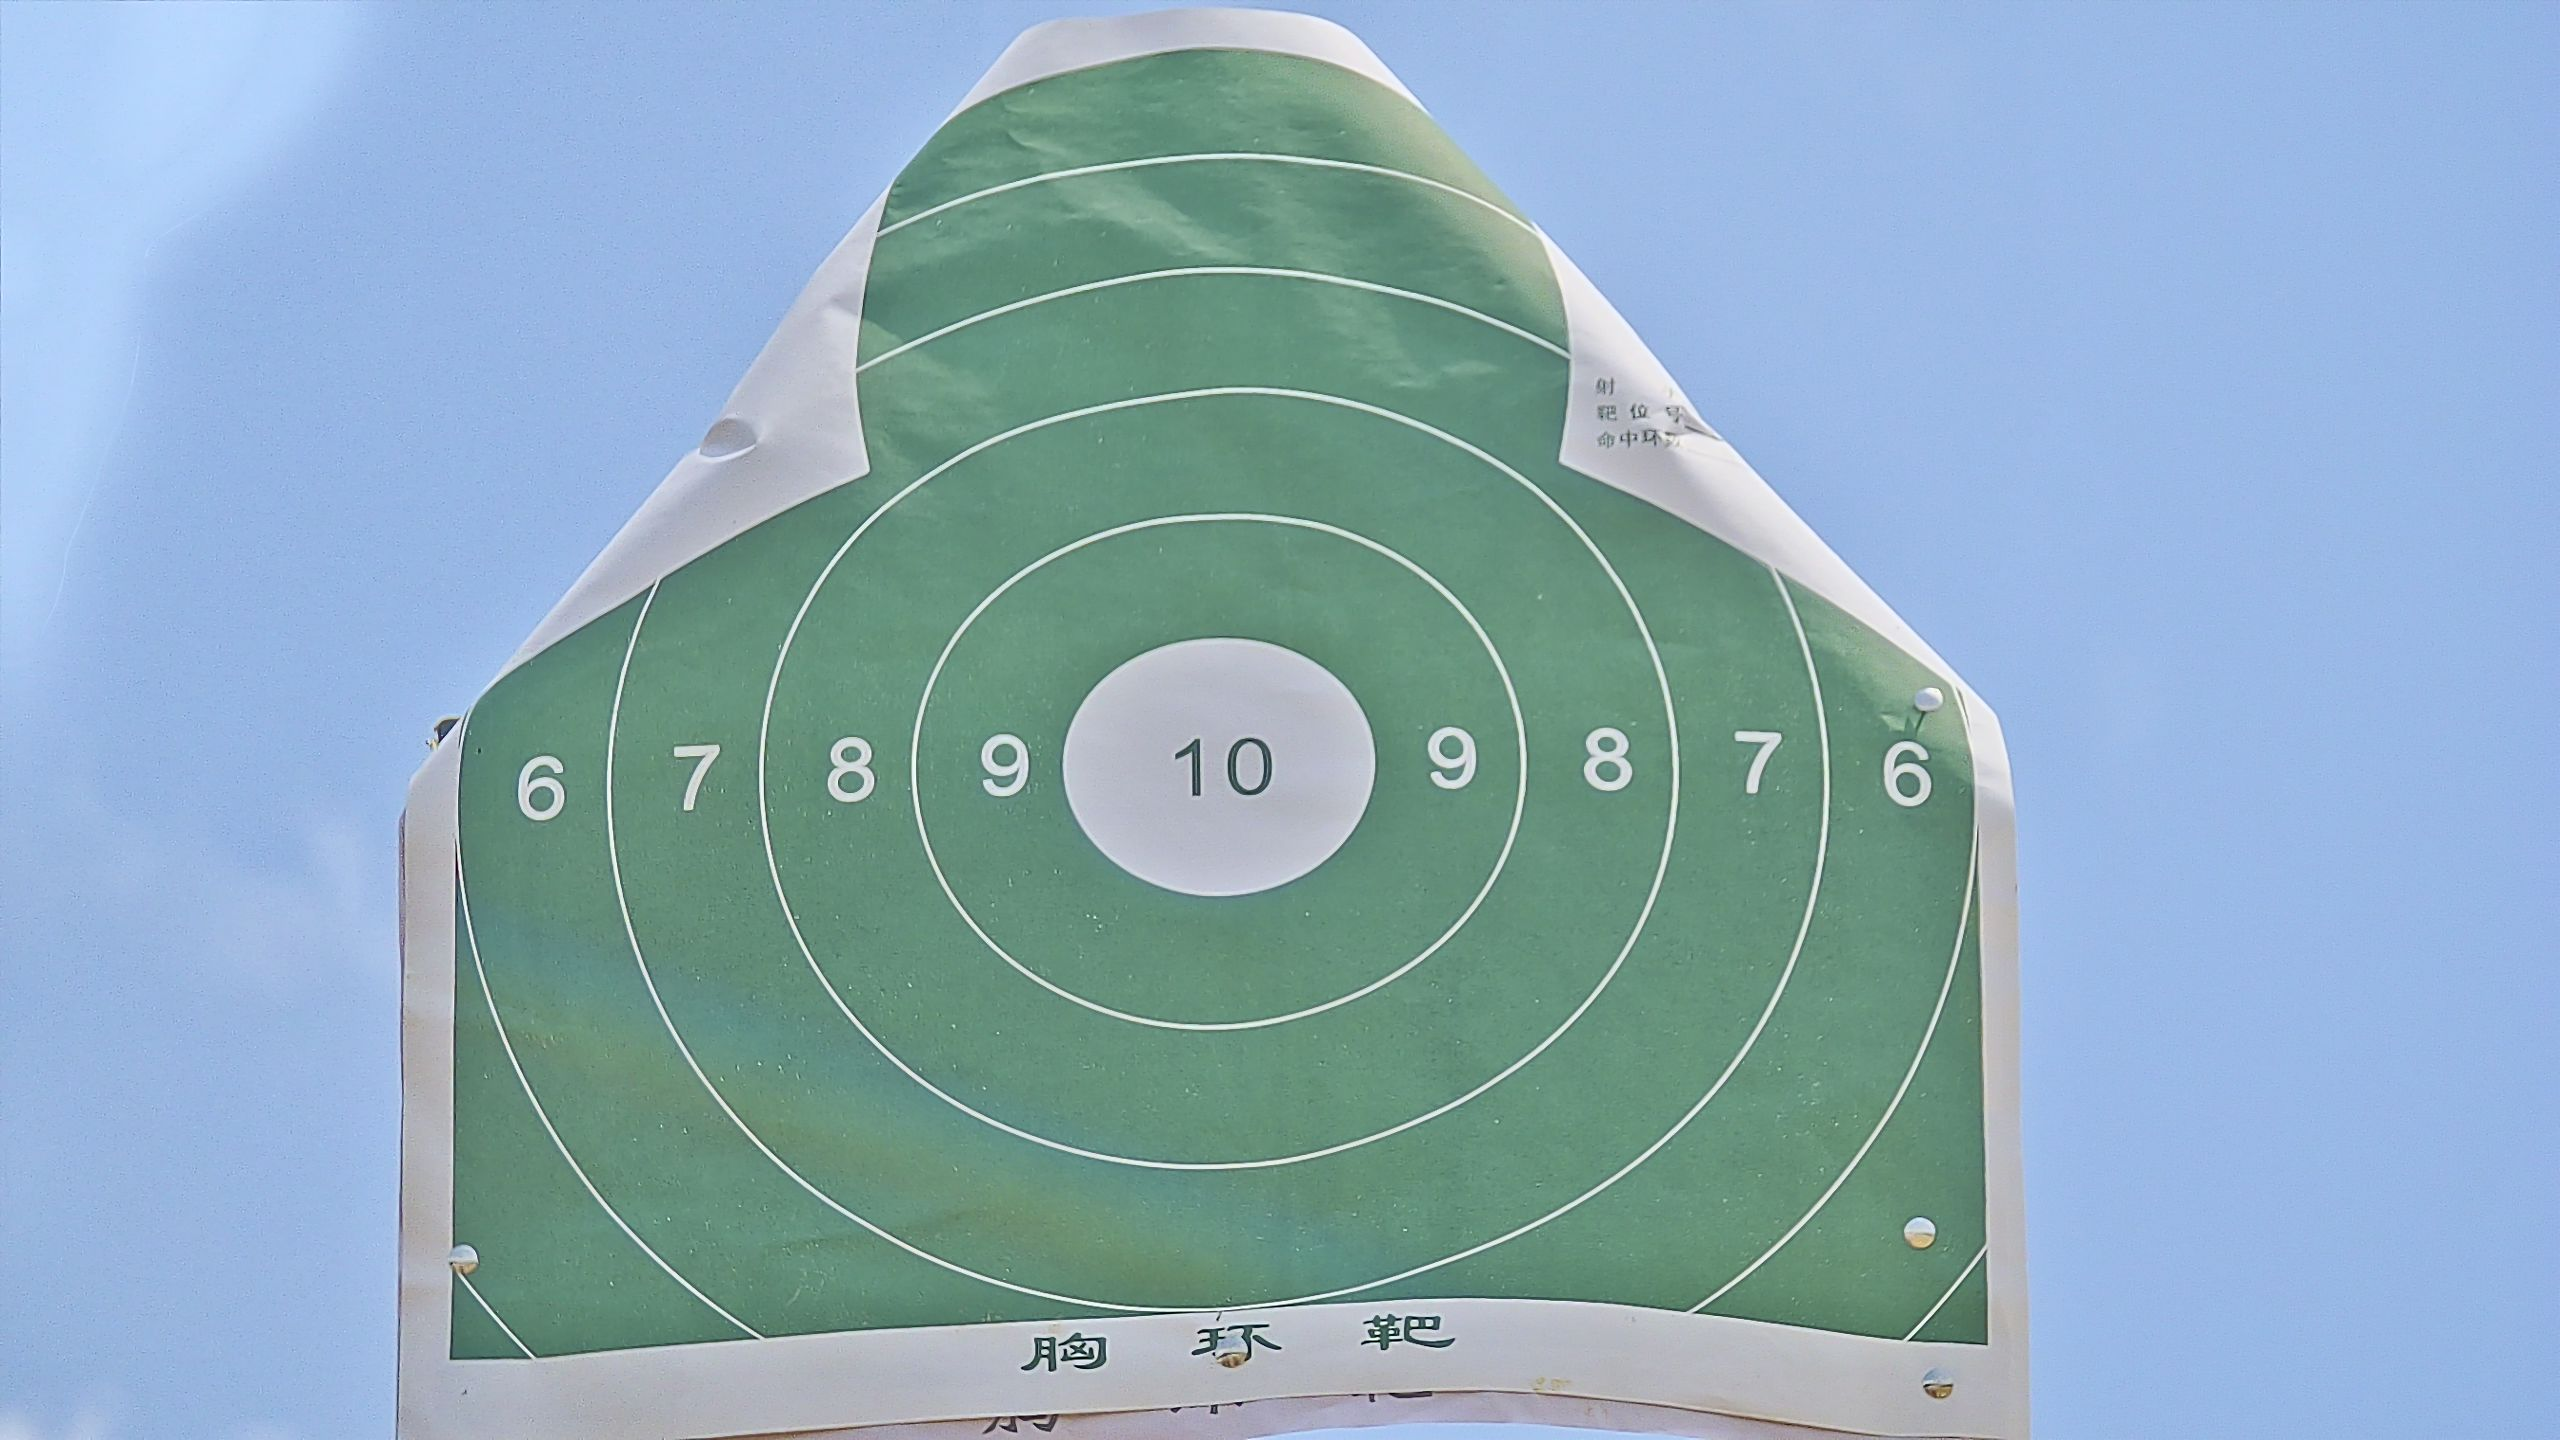kernel: (1211, 768, 1215, 772)
target: (452, 44, 1989, 1373)
ten: (1060, 636, 1380, 900)
